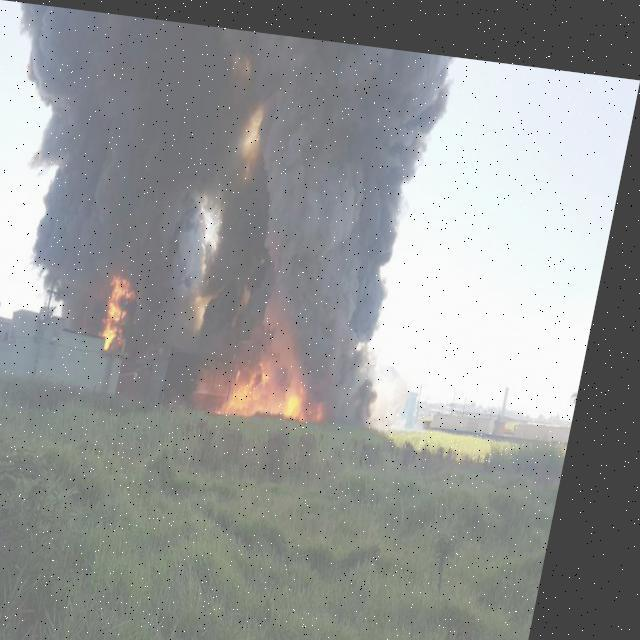Fire: (226, 332, 351, 424), (102, 260, 150, 352)
